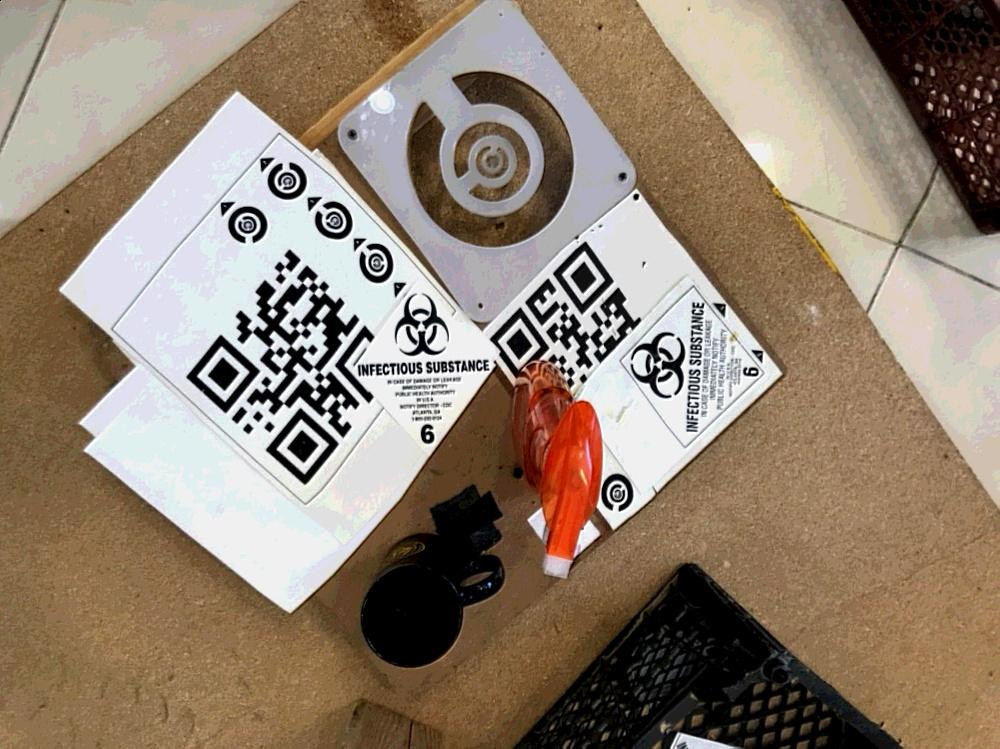infectious-substance: (614, 266, 780, 471), (356, 279, 504, 465)
